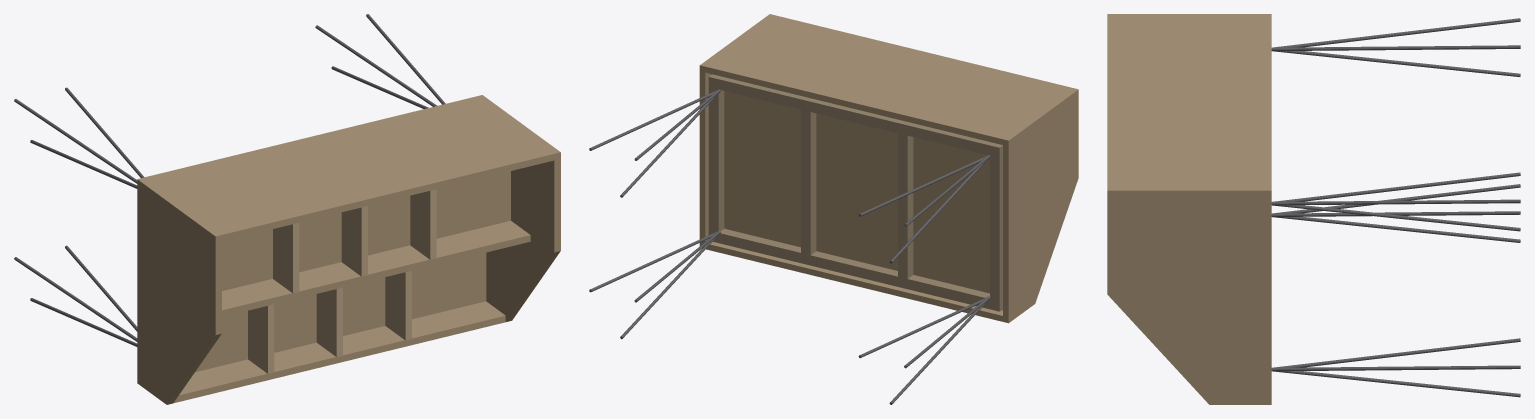
The model's file is vinyl_record_storage.glb.
3 views of the same model, side by side, from view 1: azimuth 30°, elevation 25°; view 2: azimuth 150°, elevation 25°; view 3: azimuth 270°, elevation 25° (orthographic). The views are drawn at different scales.
Parts seen in each view (by area): view 1: back, side_left, back_shelf_bottom, bottom, side_right, front, shelf_divider, back_divider_1, back_divider_3, back_divider_2, front_divider_1, front_divider_3 (+4 smaller); view 2: bottom, back, side_left, frame_front, frame_back, front, frame_right, frame_cross_2, frame_left, frame_cross_1, side_right, leg_front_right (+3 smaller); view 3: side_right, back, leg_back_left, leg_front_right, leg_back_right, leg_front_left, side_left.
Boxes of the visible parts, left/top/right/bottom form: back: left=144, top=96, right=554, bottom=241; side_left: left=137, top=177, right=221, bottom=404; back_shelf_bottom: left=222, top=171, right=510, bottom=290; bottom: left=195, top=252, right=486, bottom=372; side_right: left=476, top=95, right=560, bottom=321; front: left=173, top=301, right=505, bottom=403; shelf_divider: left=222, top=221, right=530, bottom=316; back_divider_1: left=273, top=223, right=299, bottom=293; back_divider_3: left=410, top=189, right=436, bottom=259; back_divider_2: left=341, top=206, right=367, bottom=276; front_divider_1: left=248, top=304, right=274, bottom=373; front_divider_3: left=385, top=270, right=411, bottom=340; bottom: left=711, top=74, right=1002, bottom=310; back: left=705, top=15, right=1072, bottom=144; side_left: left=1003, top=88, right=1078, bottom=323; frame_front: left=718, top=228, right=989, bottom=309; frame_back: left=718, top=76, right=992, bottom=155; front: left=706, top=242, right=1002, bottom=321; frame_right: left=708, top=74, right=724, bottom=242; frame_cross_2: left=801, top=109, right=816, bottom=255; frame_left: left=990, top=143, right=1002, bottom=311; frame_cross_1: left=898, top=133, right=913, bottom=278; side_right: left=699, top=14, right=774, bottom=248; leg_front_right: left=589, top=230, right=720, bottom=339; side_right: left=1107, top=187, right=1271, bottom=404; back: left=1107, top=17, right=1271, bottom=187; leg_back_left: left=1271, top=18, right=1520, bottom=76; leg_front_right: left=1271, top=338, right=1520, bottom=397; leg_back_right: left=1271, top=172, right=1520, bottom=231; leg_front_left: left=1271, top=184, right=1520, bottom=242; side_left: left=1107, top=14, right=1271, bottom=17.
Size of the model in its own units: 48.41 by 27.6 by 46.53.
